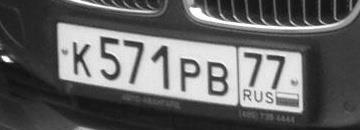license-plateSW: (55, 21, 304, 116)
